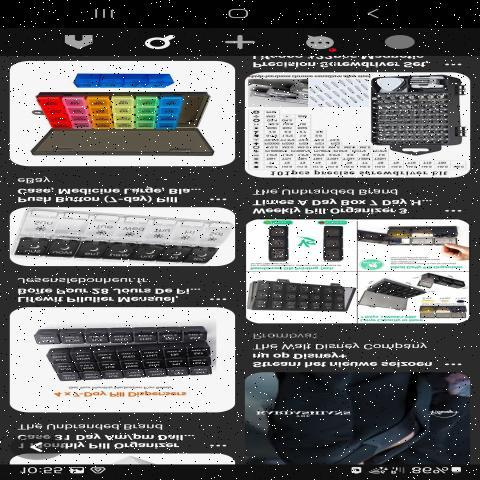PillBox: (22, 318, 218, 392), (9, 206, 227, 264), (248, 273, 349, 318), (364, 224, 462, 259), (351, 280, 431, 314)
